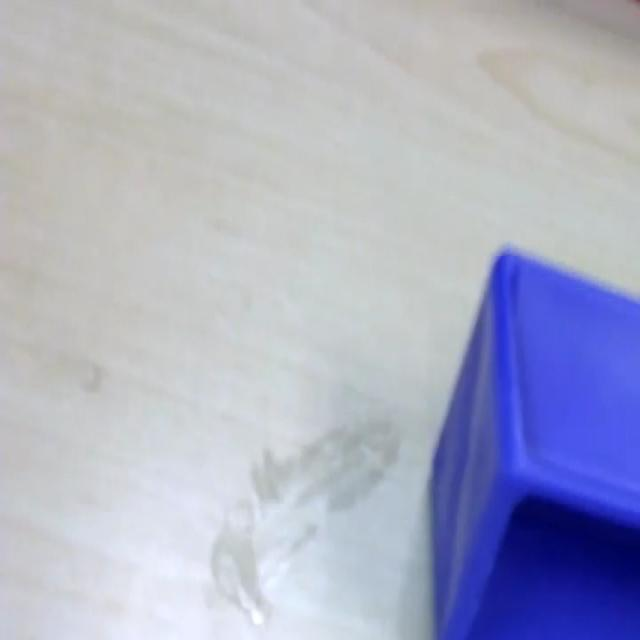blue_block: (427, 242, 638, 638)
